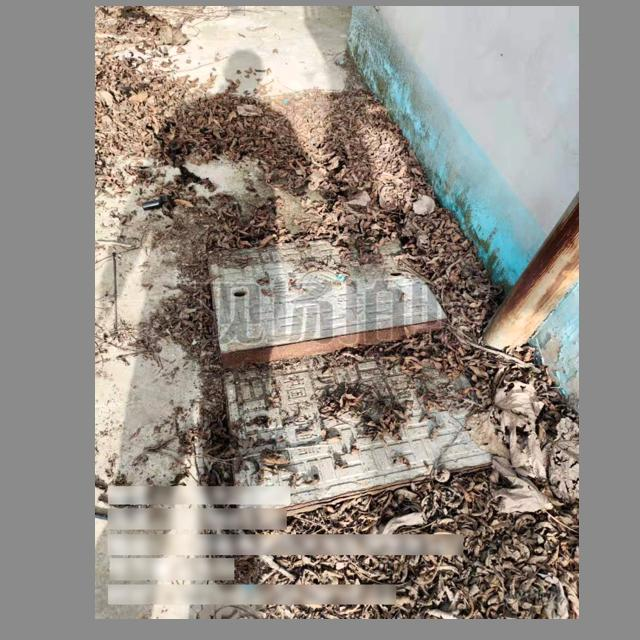uncovered: (204, 234, 498, 515)
